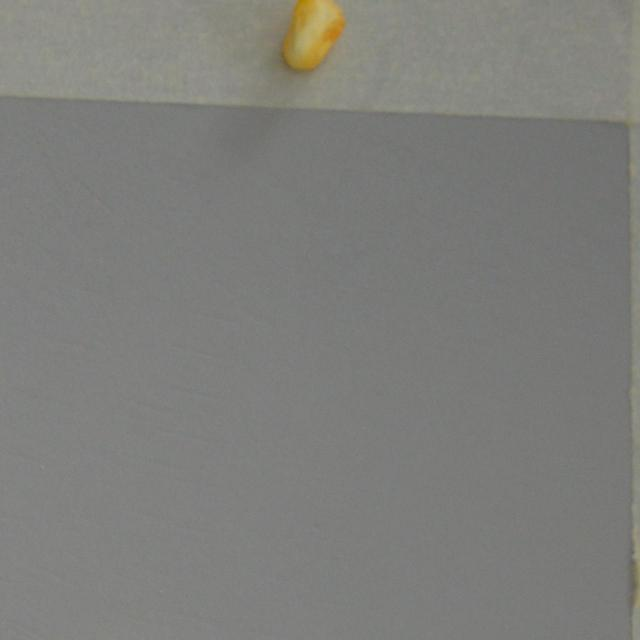pelicula: (33, 630, 172, 640)
